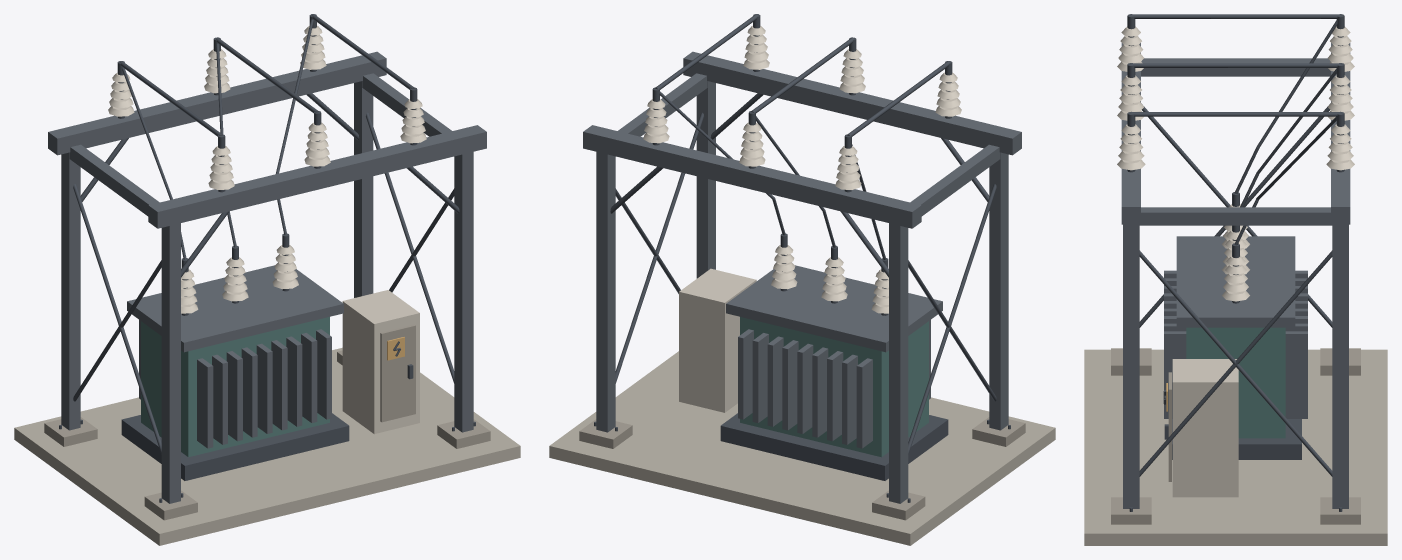
File: komachi-substation.glb
3 views of the same model, side by side, from view 1: azimuth 30°, elevation 25°; view 2: azimuth 150°, elevation 25°; view 3: azimuth 270°, elevation 25° (orthographic). The views are drawn at different scales.
Visible parts, largest first — view 1: Substation_Frame_And_Equipment; view 2: Substation_Frame_And_Equipment; view 3: Substation_Frame_And_Equipment.
Part boxes in pixels (x1=…): Substation_Frame_And_Equipment: x1=14, y1=14, x2=520, y2=545; Substation_Frame_And_Equipment: x1=549, y1=14, x2=1055, y2=545; Substation_Frame_And_Equipment: x1=1084, y1=14, x2=1387, y2=545.
Bounding box in the file's own units: 0.79 × 0.7825 × 0.55.
